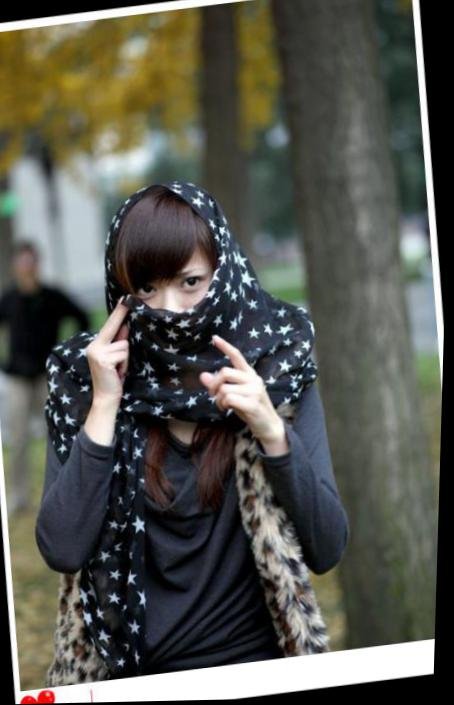WRONG: (110, 248, 231, 368)
